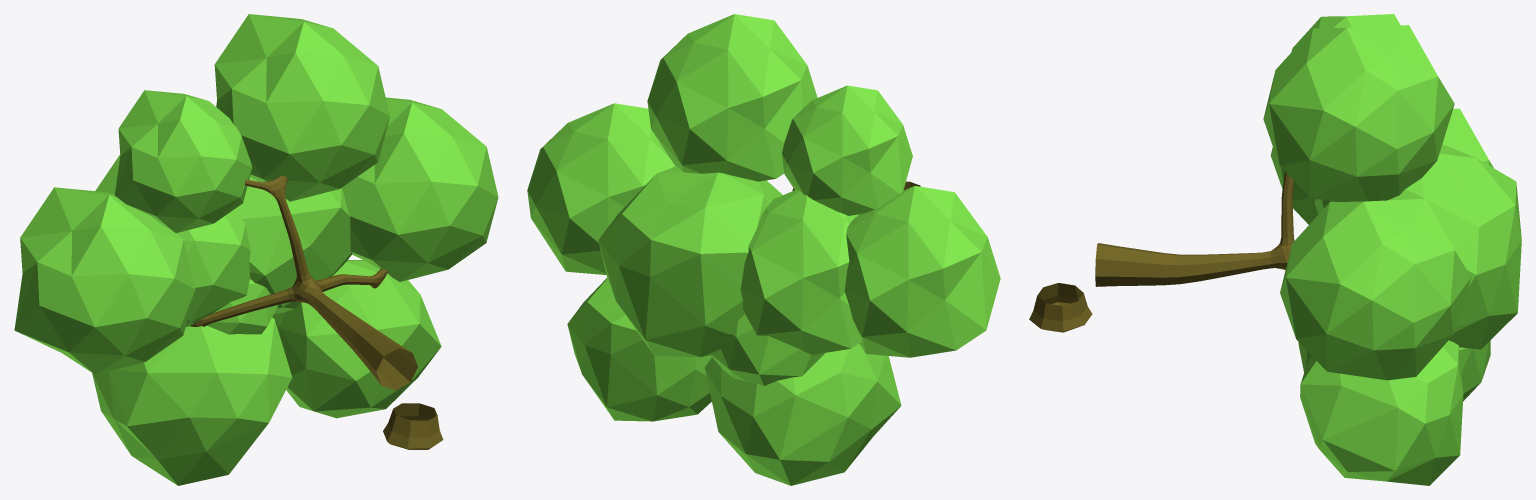
The model's file is cut_tree.glb.
3 renders of one model, left to right at view 1: azimuth 30°, elevation 25°; view 2: azimuth 150°, elevation 25°; view 3: azimuth 270°, elevation 25°, orthographic. The views are drawn at different scales.
Parts seen in each view (by area): view 1: Plane_col, Plane_col.001; view 2: Plane_col; view 3: Plane_col, Plane_col.001.
Boxes of the visible parts, x1,y1,x2,y2 form: Plane_col: (14, 14, 498, 485); Plane_col.001: (383, 403, 443, 449); Plane_col: (527, 14, 1000, 485); Plane_col: (1095, 14, 1521, 485); Plane_col.001: (1029, 283, 1092, 332).
Bounding box in the file's own units: 9.09 × 8.13 × 8.27.
Materials: 1 (1 with a texture image).
